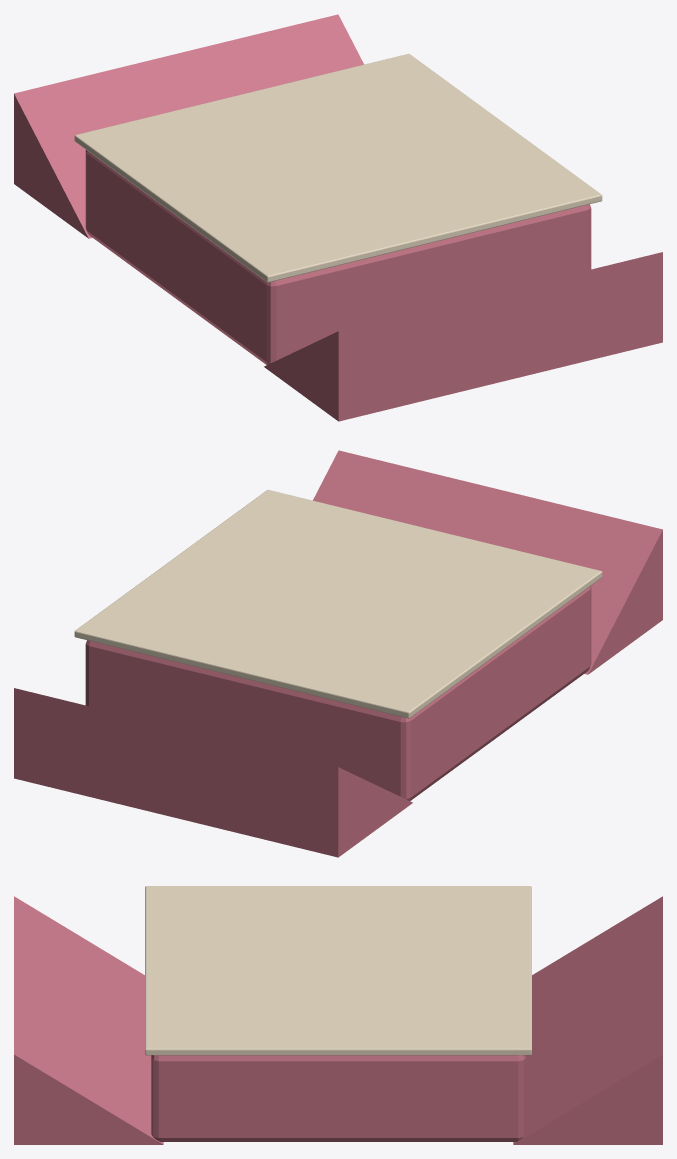
The model's file is Skate_Funbox.fbx.
3 views of the same model, one above another, from view 1: azimuth 30°, elevation 25°; view 2: azimuth 150°, elevation 25°; view 3: azimuth 270°, elevation 25° (orthographic).
Parts seen in each view (by area): view 1: Funbox; view 2: Funbox; view 3: Funbox.
Boxes of the visible parts, bbox=[...] form: Funbox: bbox=[14, 14, 662, 421]; Funbox: bbox=[14, 450, 662, 857]; Funbox: bbox=[14, 886, 662, 1144].
Bounding box in the file's own units: 3.1 × 0.87 × 5.2.
